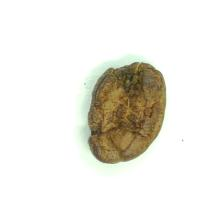NG: (88, 62, 165, 163)
